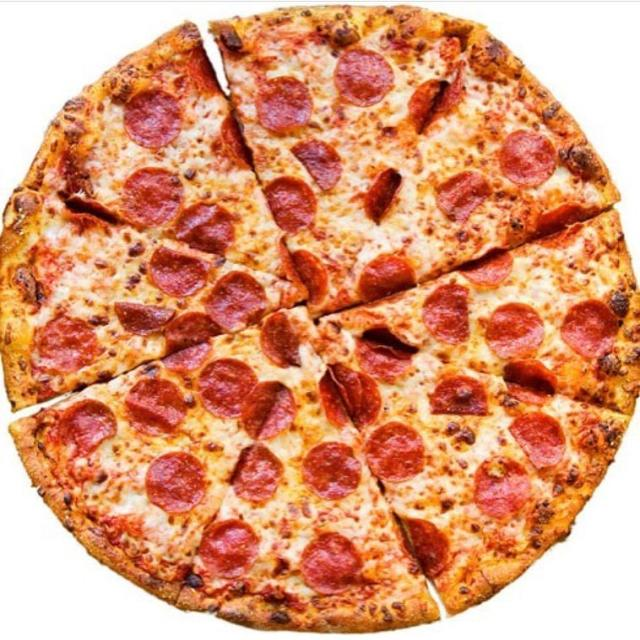pepperoni: (0, 5, 640, 636), (343, 316, 424, 382), (200, 270, 282, 331), (145, 239, 223, 303), (240, 77, 323, 137), (32, 317, 111, 376), (436, 170, 522, 224), (490, 128, 560, 192), (119, 377, 188, 440), (110, 168, 182, 226), (321, 364, 386, 427), (231, 381, 294, 445), (143, 448, 204, 514), (334, 47, 397, 109), (384, 508, 451, 566), (49, 402, 119, 456), (299, 533, 362, 593), (198, 359, 258, 421), (124, 94, 188, 152), (259, 176, 319, 237), (173, 203, 240, 257), (111, 302, 212, 336), (474, 458, 530, 518), (370, 422, 425, 482), (509, 411, 565, 469), (561, 301, 618, 357), (258, 311, 309, 370), (232, 443, 283, 502), (364, 160, 408, 227), (355, 254, 416, 302), (153, 313, 225, 353), (308, 444, 361, 498), (422, 284, 469, 344), (292, 142, 345, 193), (485, 314, 545, 359), (409, 78, 453, 137), (503, 361, 557, 409), (202, 520, 250, 566), (429, 376, 486, 414), (292, 248, 329, 304), (147, 343, 214, 371), (544, 202, 600, 235), (472, 251, 513, 287)
